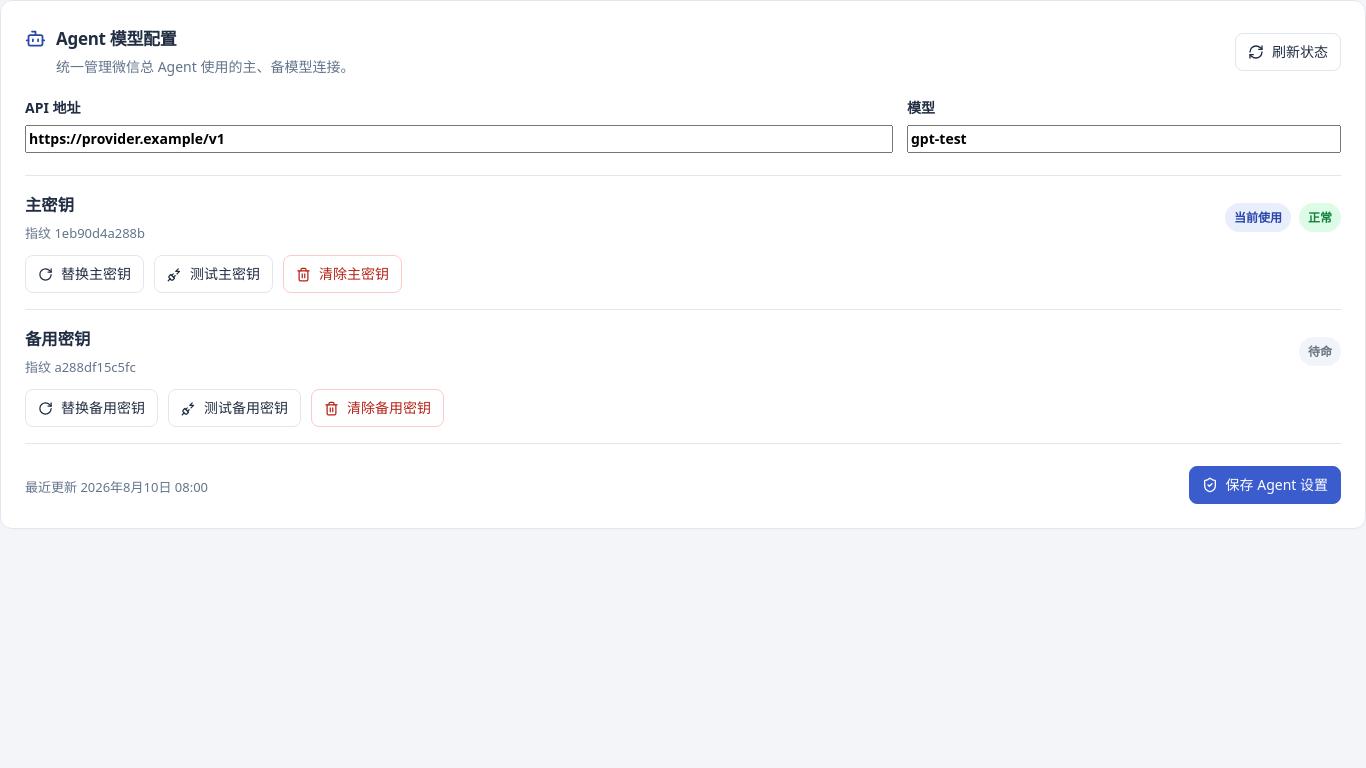
it: replacement requires administrator reauthentication then resumes without sending the other key
Replace the text in the field labelled "模型" with "gpt-next" at (1124, 139), box x1=907 y1=125 x2=1341 y2=153
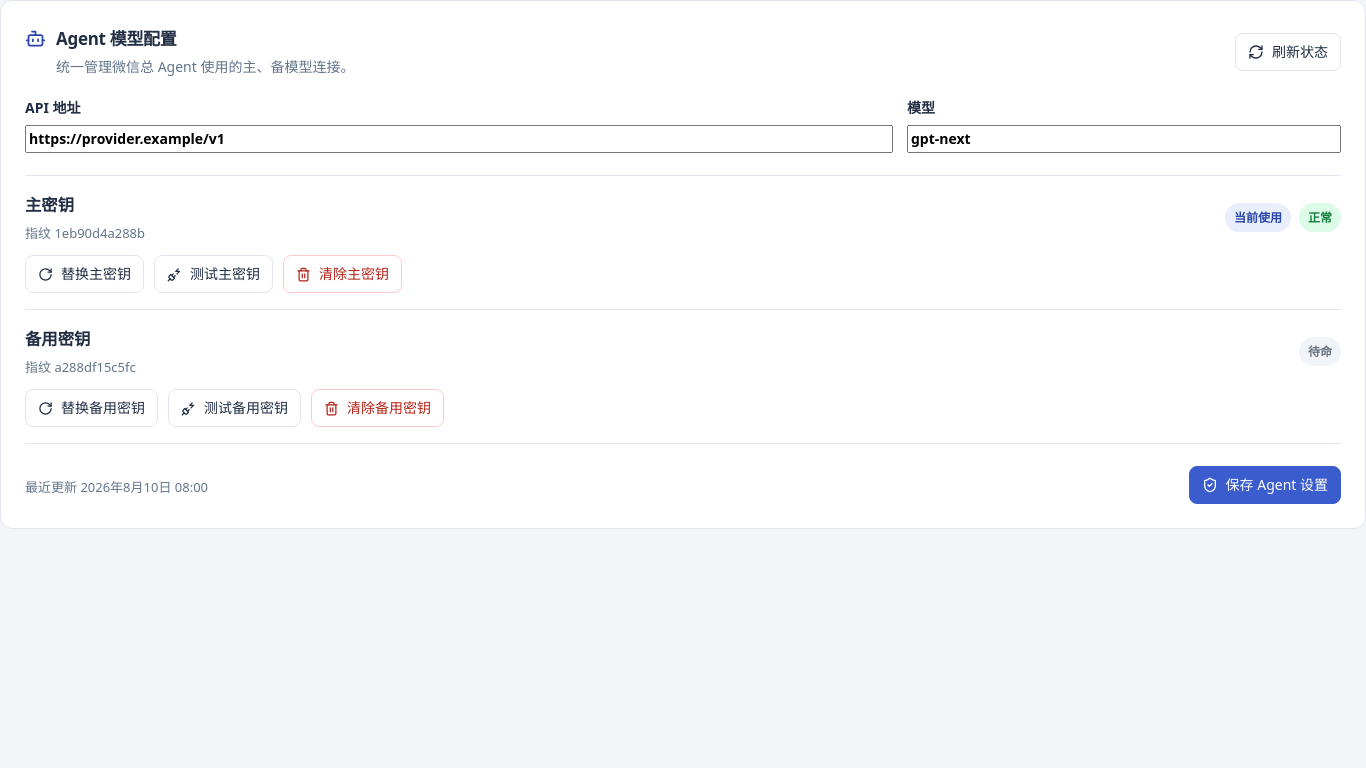
Click the button "替换主密钥" at (84, 274), box x1=25 y1=255 x2=144 y2=293
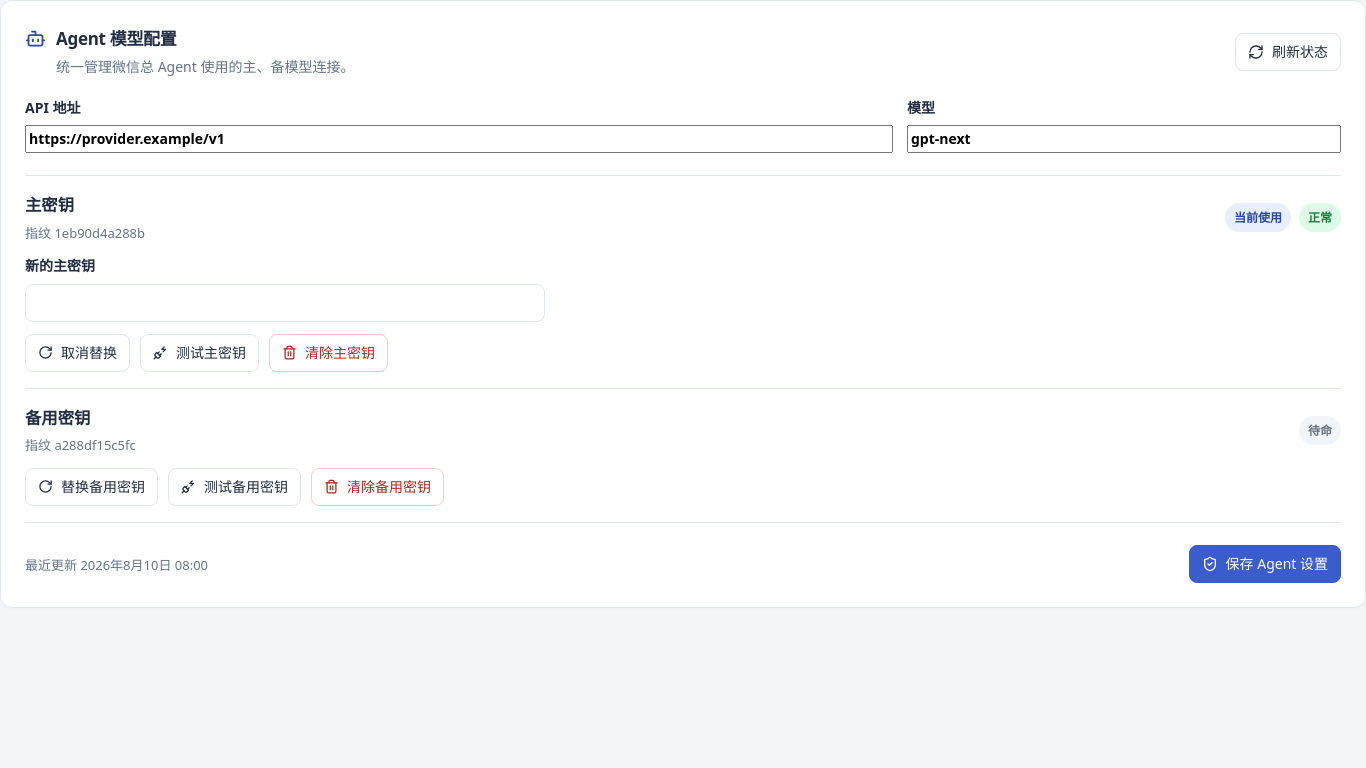
Type "replacement-secret" into the password field labelled "新的主密钥" at (285, 303), box x1=25 y1=284 x2=545 y2=322
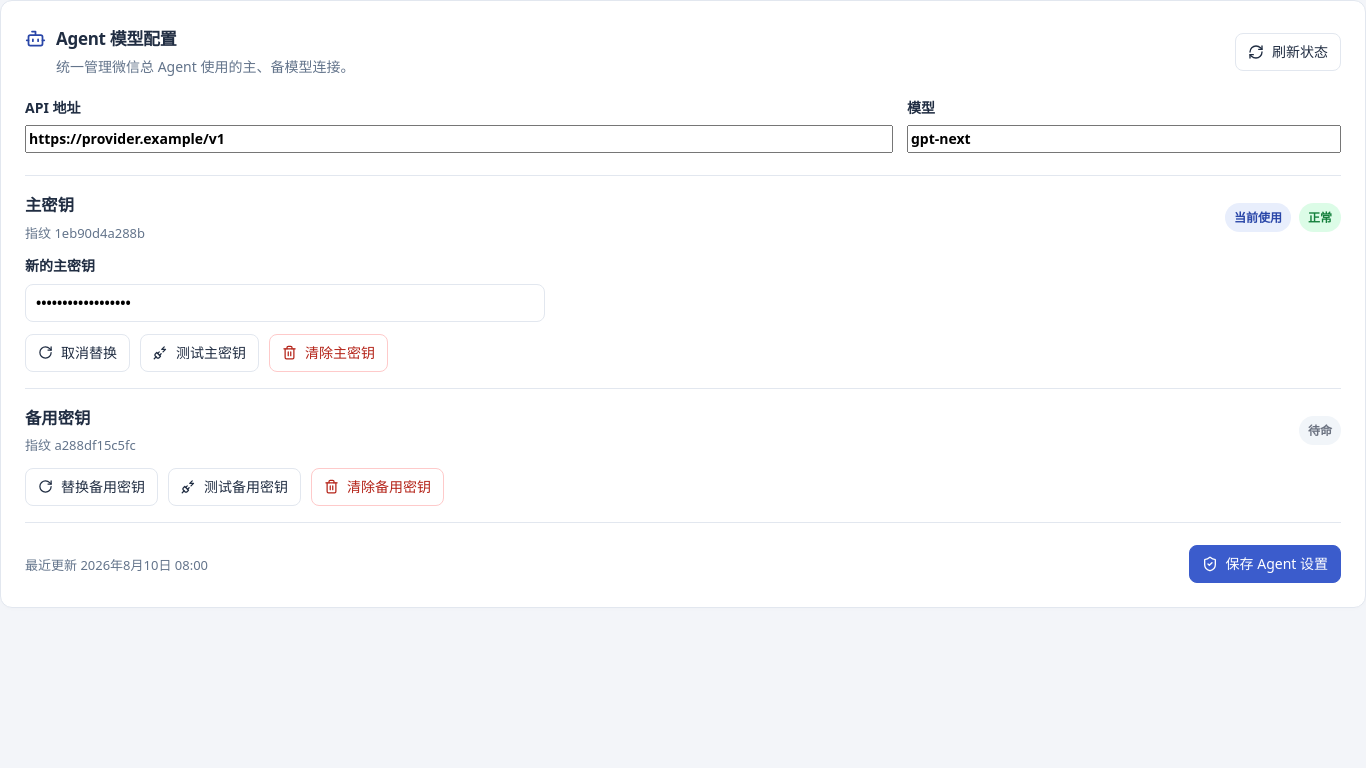
Click the button "保存 Agent 设置" at (1265, 564), box x1=1188 y1=545 x2=1341 y2=583
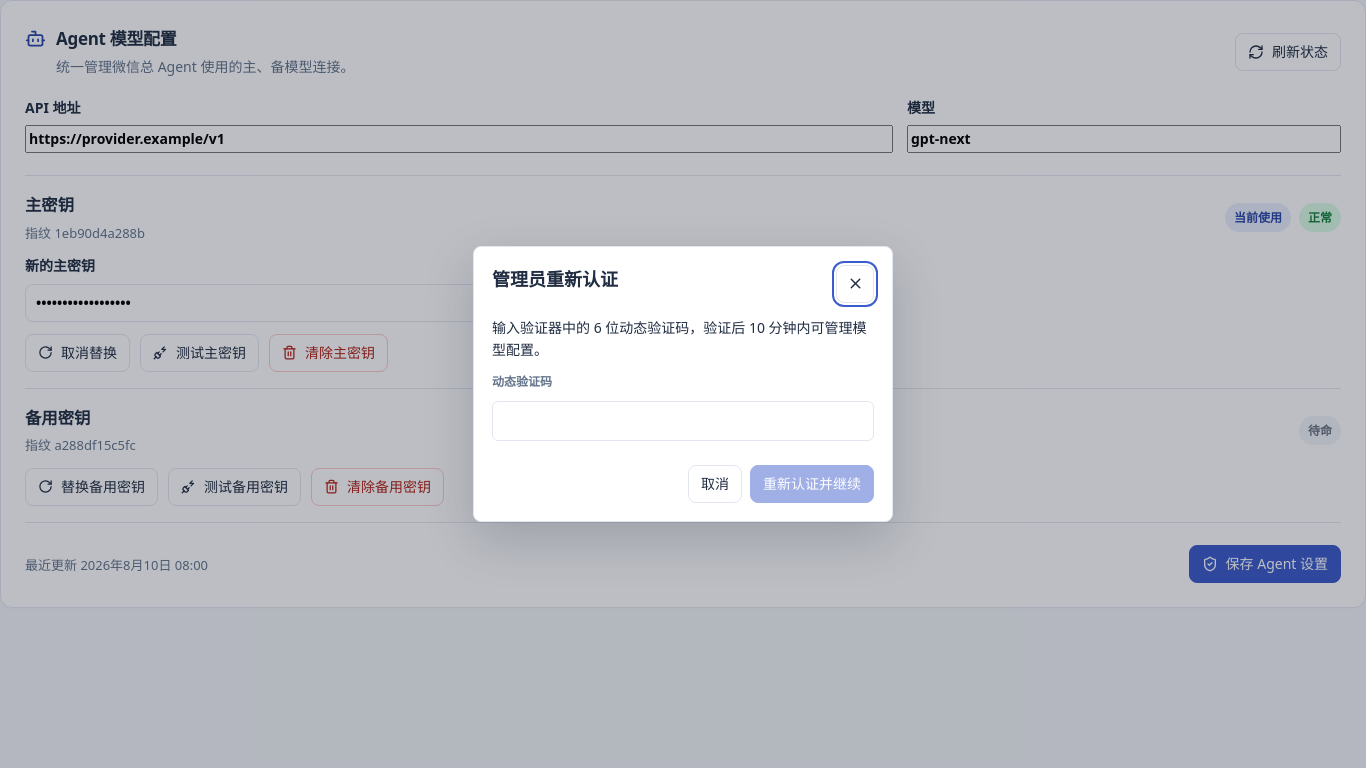
expect the dialog "管理员重新认证" is shown: met, box x1=473 y1=246 x2=893 y2=522
Type "123456" into the field labelled "动态验证码" at (683, 421), box x1=492 y1=401 x2=874 y2=441
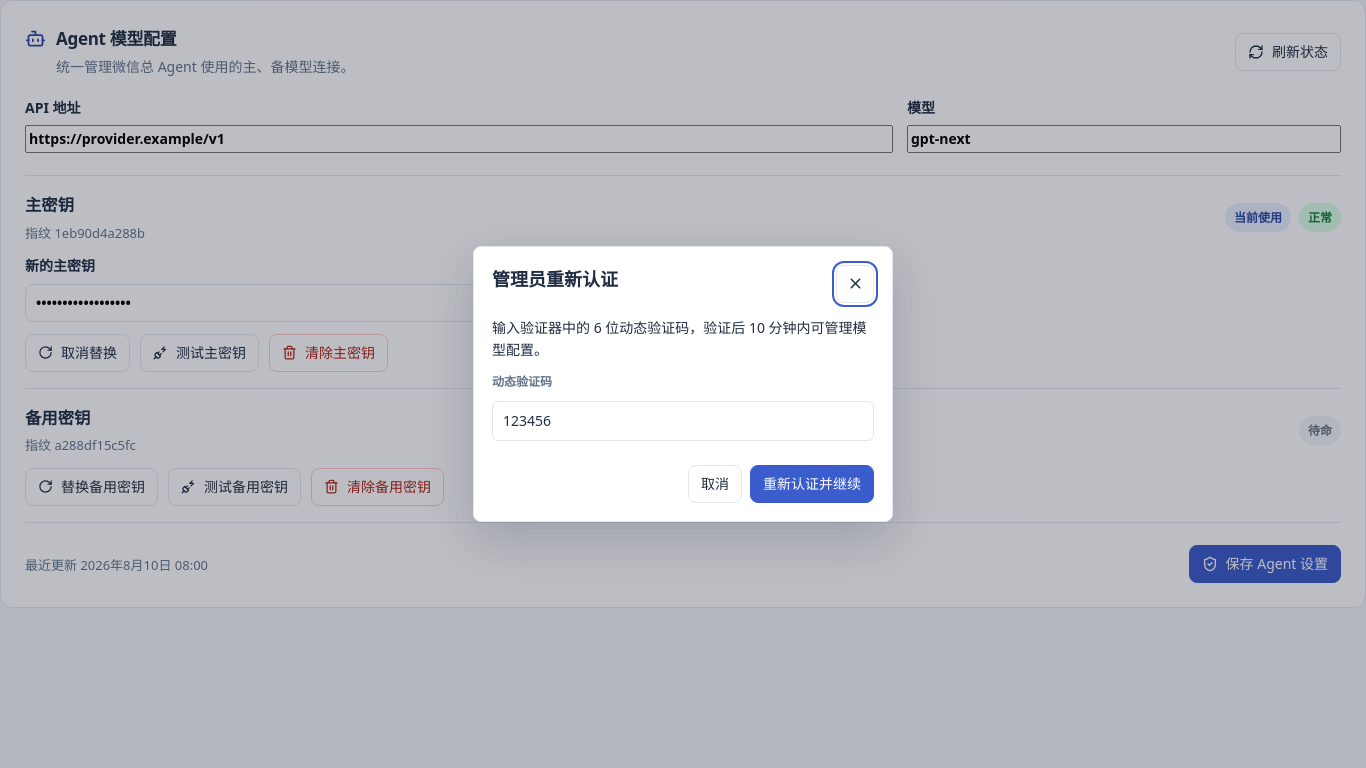
Click the button "重新认证并继续" at (812, 484), box x1=750 y1=465 x2=874 y2=503
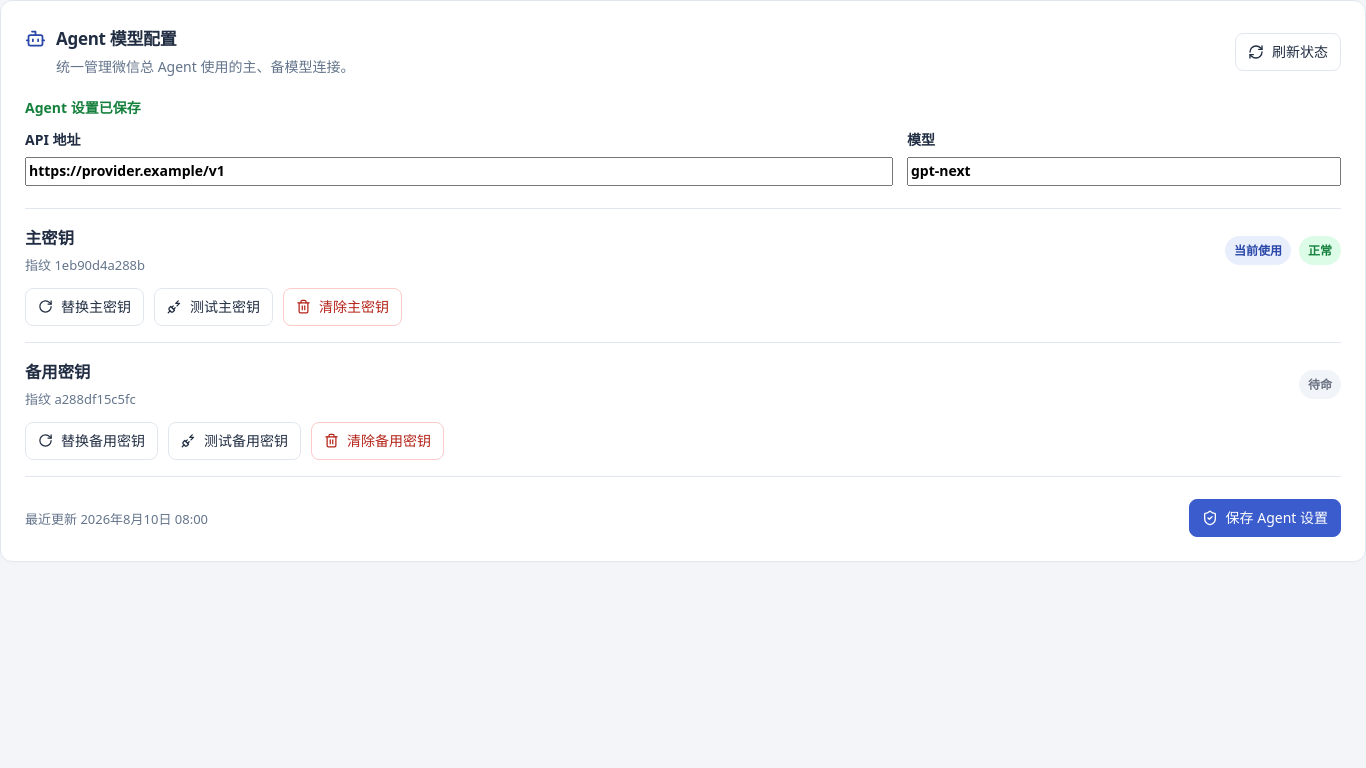
expect the text "Agent 设置已保存" is shown: met, box x1=25 y1=98 x2=141 y2=117
expect the label labelled "新的主密钥" is gone: met
